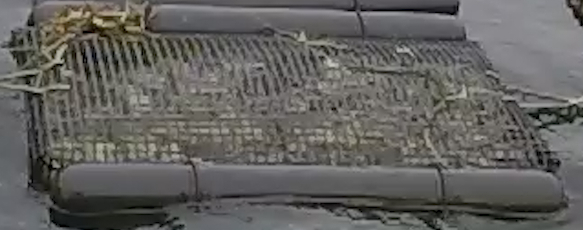bag: (8, 9, 562, 216)
